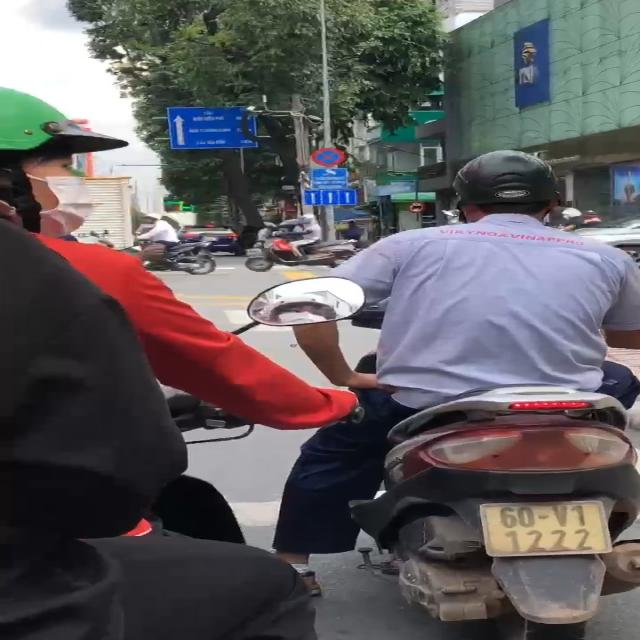Bien bao cam dung xe va do xe: (309, 145, 347, 168)
